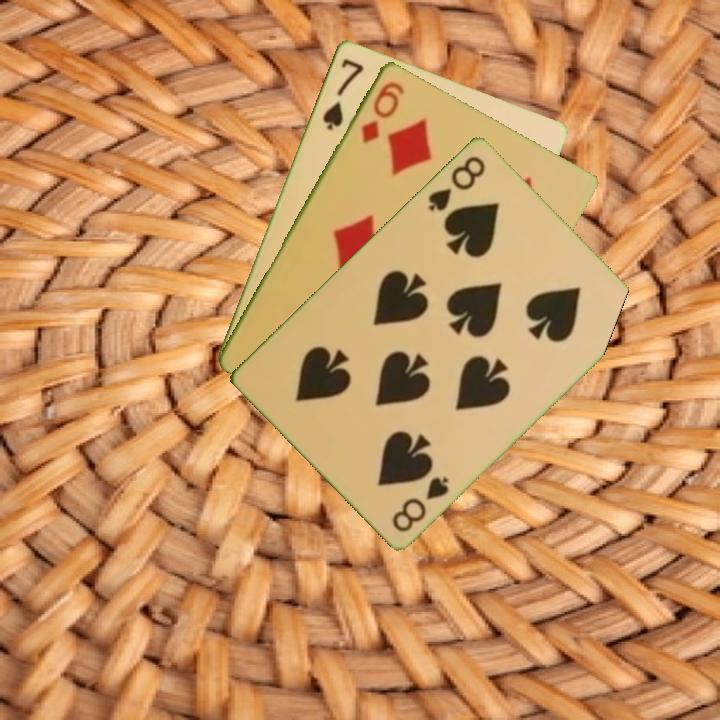6d: (357, 77, 407, 146)
7s: (318, 54, 367, 133)
8s: (424, 152, 489, 214), (388, 472, 452, 534)
